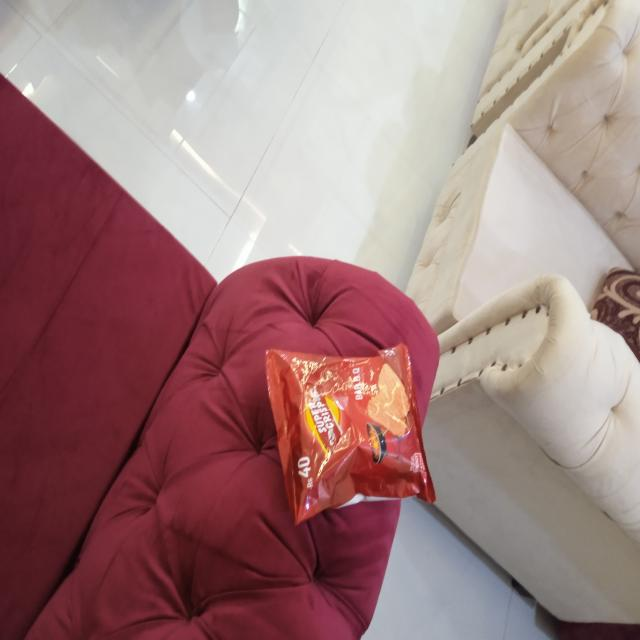Plastic: (258, 336, 444, 532)
